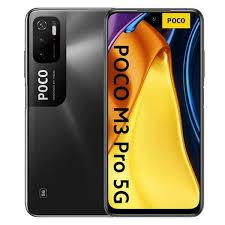Smartphone: (107, 8, 204, 216), (31, 7, 105, 216)
